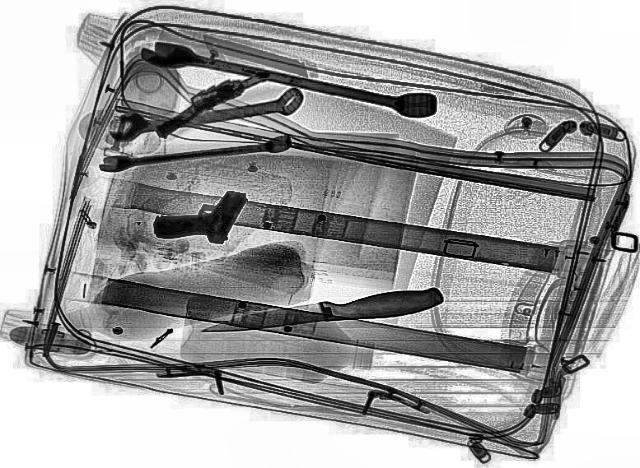Gun: (143, 60, 267, 142), (146, 176, 250, 250)
Knife: (198, 282, 446, 346)
Wrench: (132, 36, 442, 120), (105, 86, 309, 142), (95, 134, 293, 172)
